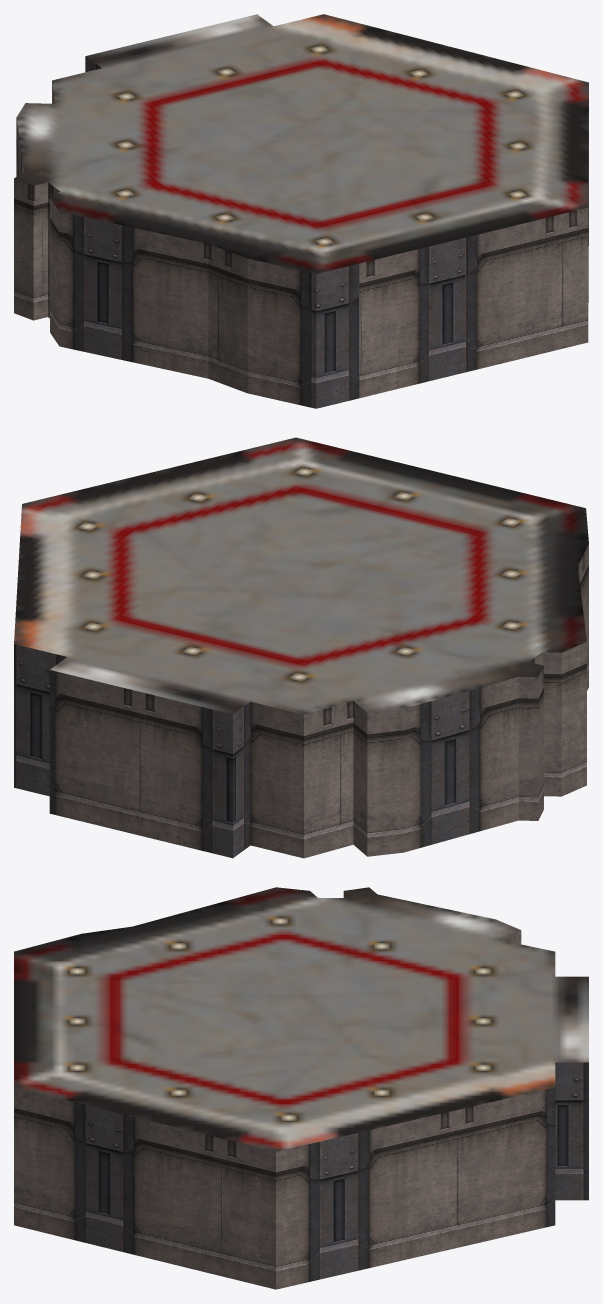
File: bsealed_medium_33.glb
3 renders of one model, top to bottom at view 1: azimuth 30°, elevation 25°; view 2: azimuth 150°, elevation 25°; view 3: azimuth 270°, elevation 25°, orthographic. The views are drawn at different scales.
Parts seen in each view (by area): view 1: buildings/saxarba/bsealed_medium/bsealed_medium_33; view 2: buildings/saxarba/bsealed_medium/bsealed_medium_33; view 3: buildings/saxarba/bsealed_medium/bsealed_medium_33.
Part boxes in pixels (left/top/right/bottom): buildings/saxarba/bsealed_medium/bsealed_medium_33: left=14, top=14, right=588, bottom=408; buildings/saxarba/bsealed_medium/bsealed_medium_33: left=14, top=437, right=588, bottom=858; buildings/saxarba/bsealed_medium/bsealed_medium_33: left=14, top=887, right=588, bottom=1289.
Size of the model in its own units: 74 by 18 by 68.
